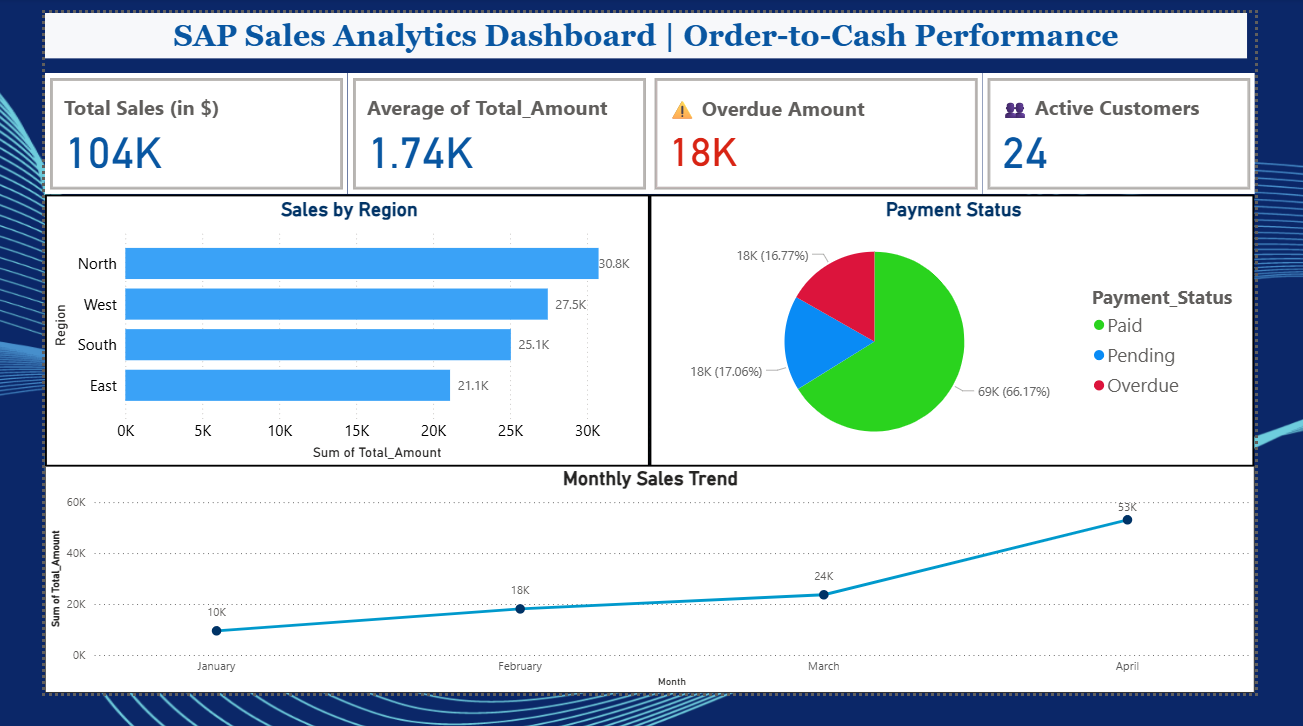

Layout of this report page (visuals, bound fields, positions):
{"tool":"powerbi","page":{"name":"Page 1","canvas":[1280,720],"ordinal":0},"visuals":[{"type":"cardVisual","fields":{"Data":["Sum(sales_data csv.Total_Amount)"]},"box":[0,64,320,128],"z":0},{"type":"cardVisual","fields":{"Data":["Avg(sales_data csv.Total_Amount)"]},"box":[320,64,320,128],"z":1000},{"type":"barChart","title":"Sales by Region","fields":{"Category":["customer_data csv.Region"],"Y":["Sum(sales_data csv.Total_Amount)"]},"box":[0,192,656,288],"z":2000},{"type":"pieChart","title":"Payment Status","fields":{"Category":["sales_data csv.Payment_Status"],"Y":["Sum(sales_data csv.Total_Amount)"]},"box":[656,192,624,288],"z":3000},{"type":"lineChart","title":"Monthly Sales Trend","fields":{"Category":["sales_data csv.Order_Date.Variation.Date Hierarchy.Month"],"Y":["Sum(sales_data csv.Total_Amount)"]},"box":[0,480,1280,240],"z":4000},{"type":"textbox","box":[0,0,1272,48],"z":5000},{"type":"cardVisual","fields":{"Data":["sales_data csv.Overdue Amount"]},"box":[640,64,352,128],"z":5001},{"type":"cardVisual","fields":{"Data":["sales_data csv.Unique Customers"]},"box":[992,64,288,128],"z":5002}]}

Visuals, with their boxes in screenshot pixels (x1, y1, x2, y2), scaled from the page's 1280x720 canvas onto the 1303x726 screenshot:
cardVisual - Sum(sales_data csv.Total_Amount): Rect(0, 65, 326, 194)
cardVisual - Avg(sales_data csv.Total_Amount): Rect(326, 65, 652, 194)
"Sales by Region" barChart: Rect(0, 194, 668, 484)
"Payment Status" pieChart: Rect(668, 194, 1302, 484)
"Monthly Sales Trend" lineChart: Rect(0, 484, 1302, 725)
textbox: Rect(0, 0, 1295, 48)
cardVisual - sales_data csv.Overdue Amount: Rect(652, 65, 1010, 194)
cardVisual - sales_data csv.Unique Customers: Rect(1010, 65, 1302, 194)
